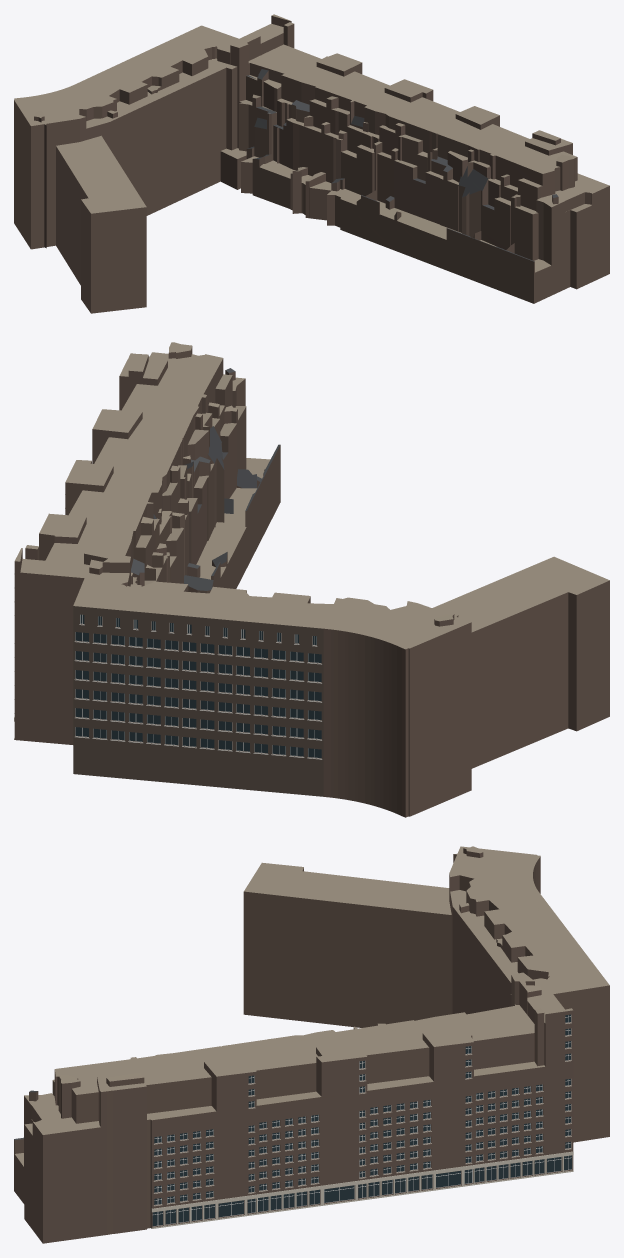
The model's file is recipe-large-bos-en-lommerplein-73-175-080943.glb.
3 views of the same model, one above another, from view 1: azimuth 30°, elevation 25°; view 2: azimuth 150°, elevation 25°; view 3: azimuth 270°, elevation 25° (orthographic). The views are drawn at different scales.
Parts seen in each view (by area): view 1: bos-en-lommerplein-73-175-080943; view 2: bos-en-lommerplein-73-175-080943; view 3: bos-en-lommerplein-73-175-080943.
Part boxes in pixels (box(x1,y1,x2,y2)): bos-en-lommerplein-73-175-080943: box(14, 14, 609, 313); bos-en-lommerplein-73-175-080943: box(14, 342, 609, 817); bos-en-lommerplein-73-175-080943: box(14, 846, 609, 1243).
Bounding box in the file's own units: 115 × 33.49 × 112.
